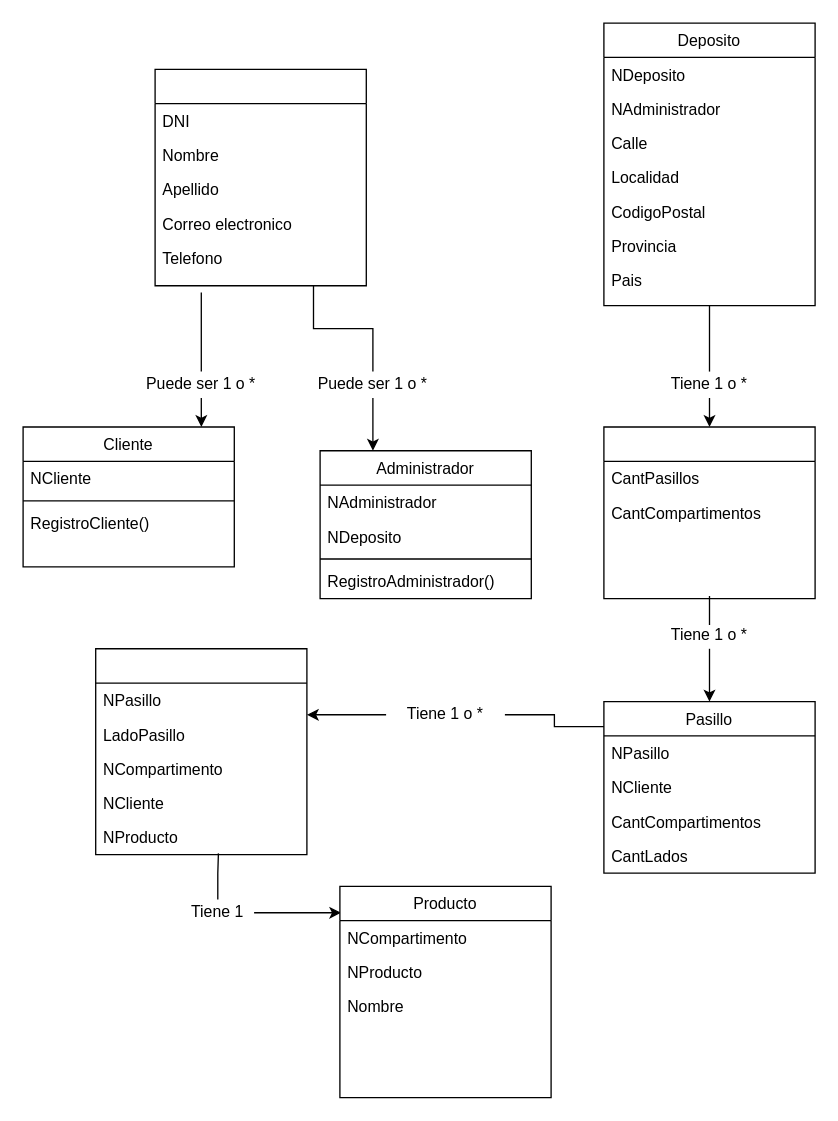
The diagram is 838 pixels wide and 1121 high, and some of its shapes have lost their labels. The box of each missing label's shape, as (x1, y1, x2, y2) in pixels:
Compartimentos: (94, 647, 307, 855)
Lado: (603, 426, 815, 599)
Persona: (154, 68, 366, 286)
